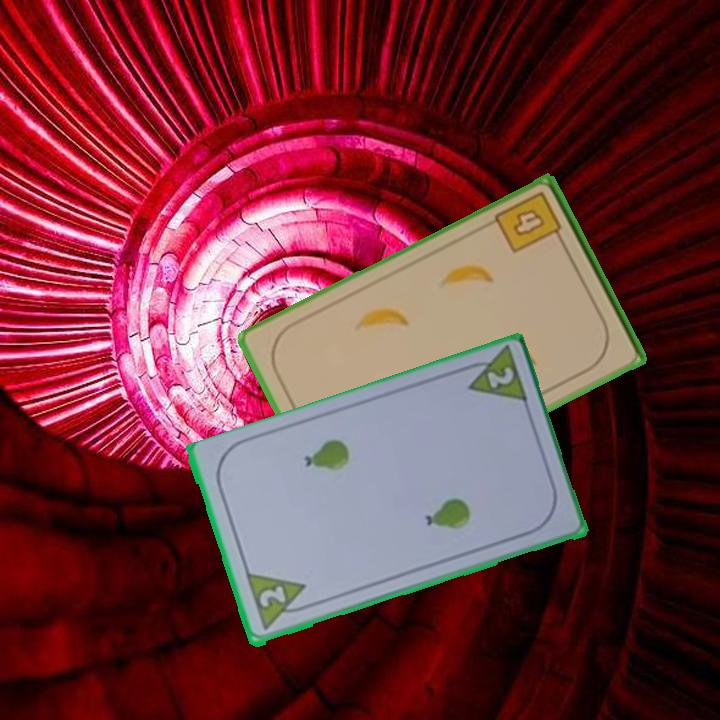2p: (456, 344, 531, 408), (255, 582, 289, 611)
4b: (491, 188, 567, 257)
